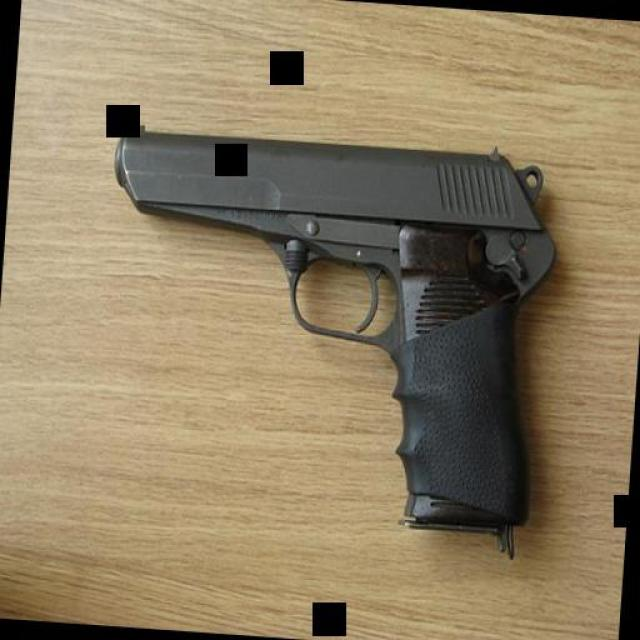gun: (84, 117, 565, 534)
